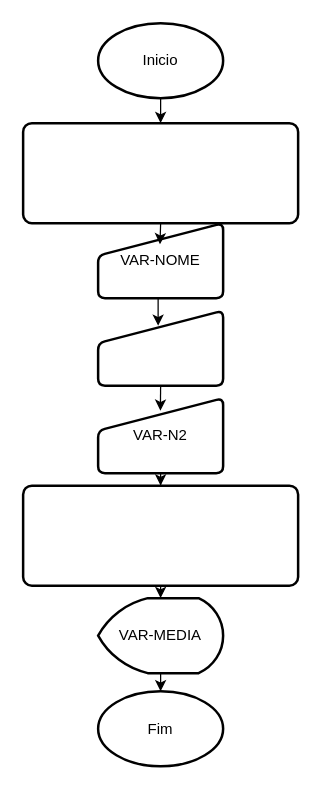
Some shapes in this 320 by 789 pixel diagram are drawn without their labels. Each missing label, with the centre of its shape:
VAR-MEDIA = (VAR-N1 + VAR-N2) / 2: pixel 160 535
VAR-N1: pixel 160 347
VAR-NOME VAR-N1 VAR-N2 VAR-MEDIA: pixel 160 172
